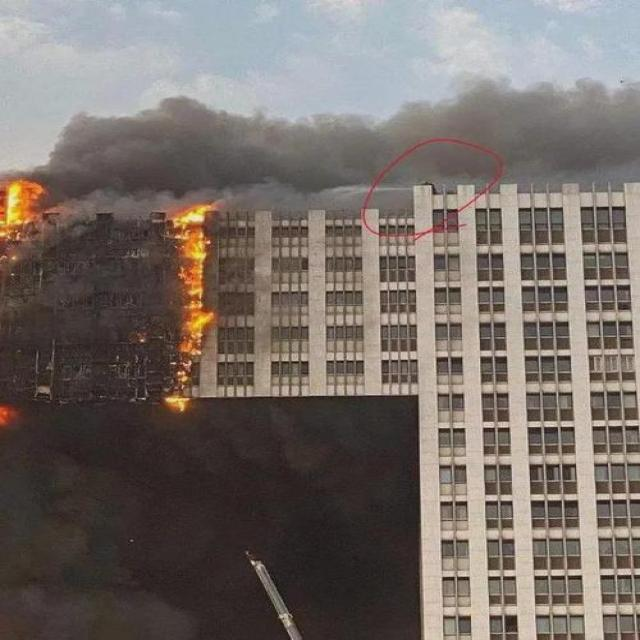Fire: (162, 204, 222, 413), (0, 172, 48, 232)
Smoke: (48, 79, 639, 187)
